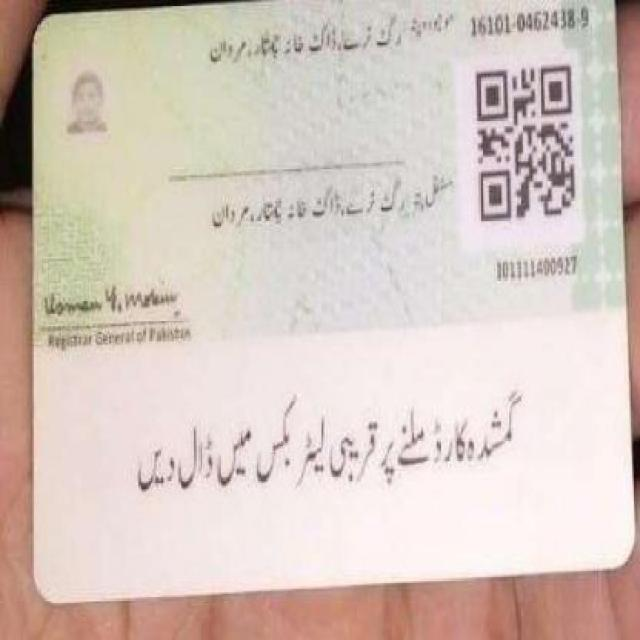Back: (26, 2, 625, 569)
